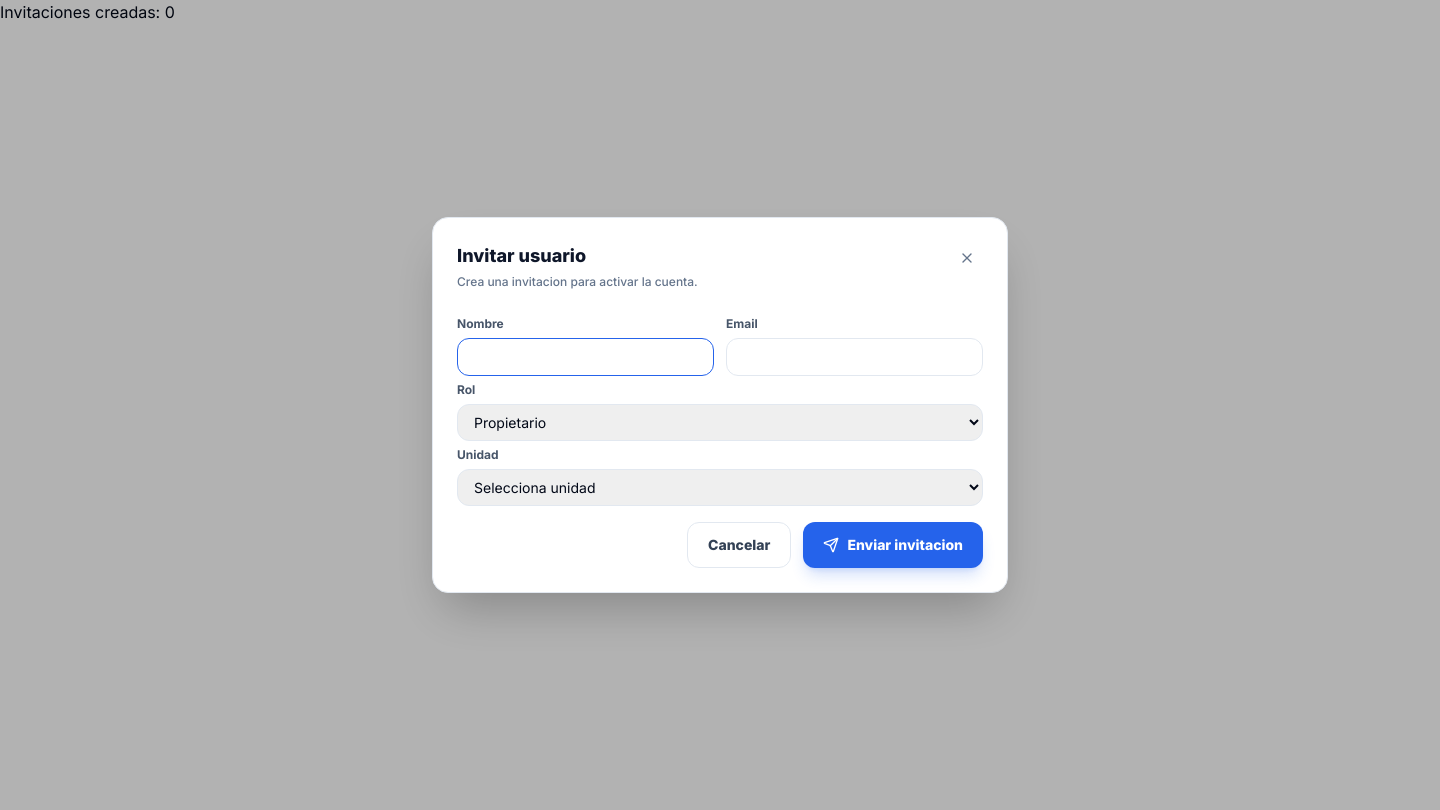
InvitationCreationDialog › keeps the success link visible when parent state updates after invitation creation
The width and height of the screenshot is (1440, 810).
Type "Owner Invitada" into the field labelled "Nombre" at (586, 357), box 457,338 -> 714,376
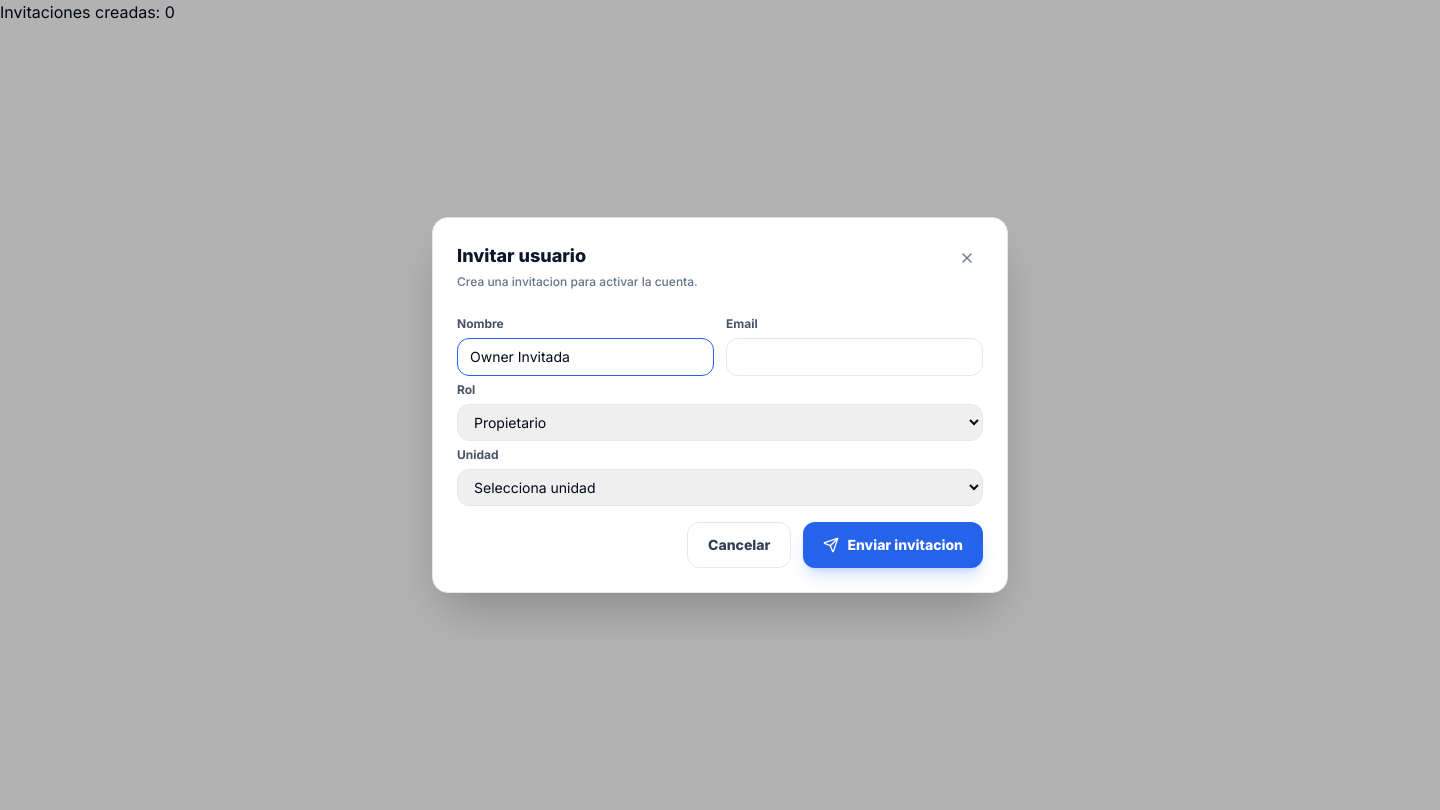
Type "owner@example.com" into the field labelled "Email" at (854, 357), box 726,338 -> 983,376
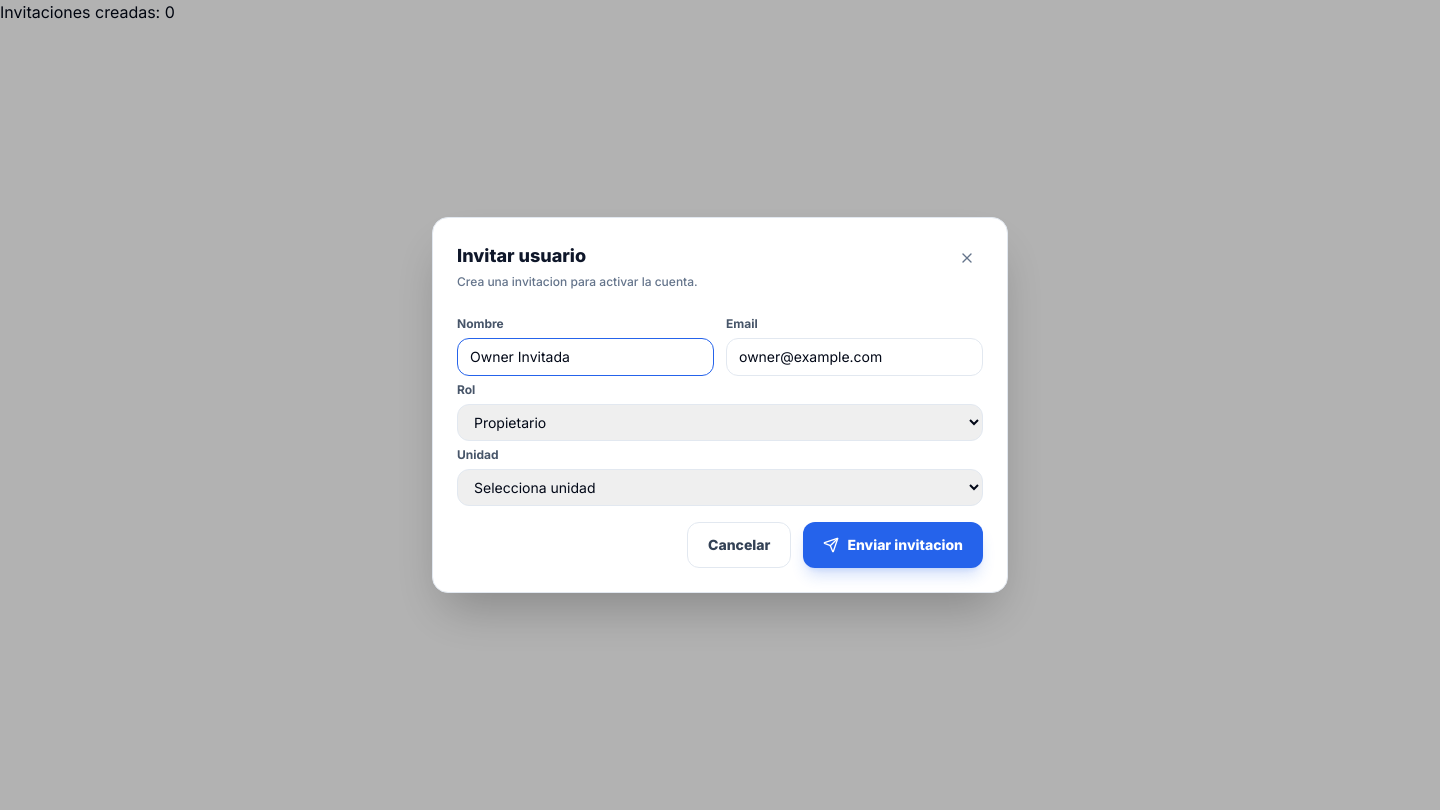
Select "Depto 101 - Torre Norte" in the dropdown labelled "Unidad" at (720, 488), box 457,469 -> 983,506
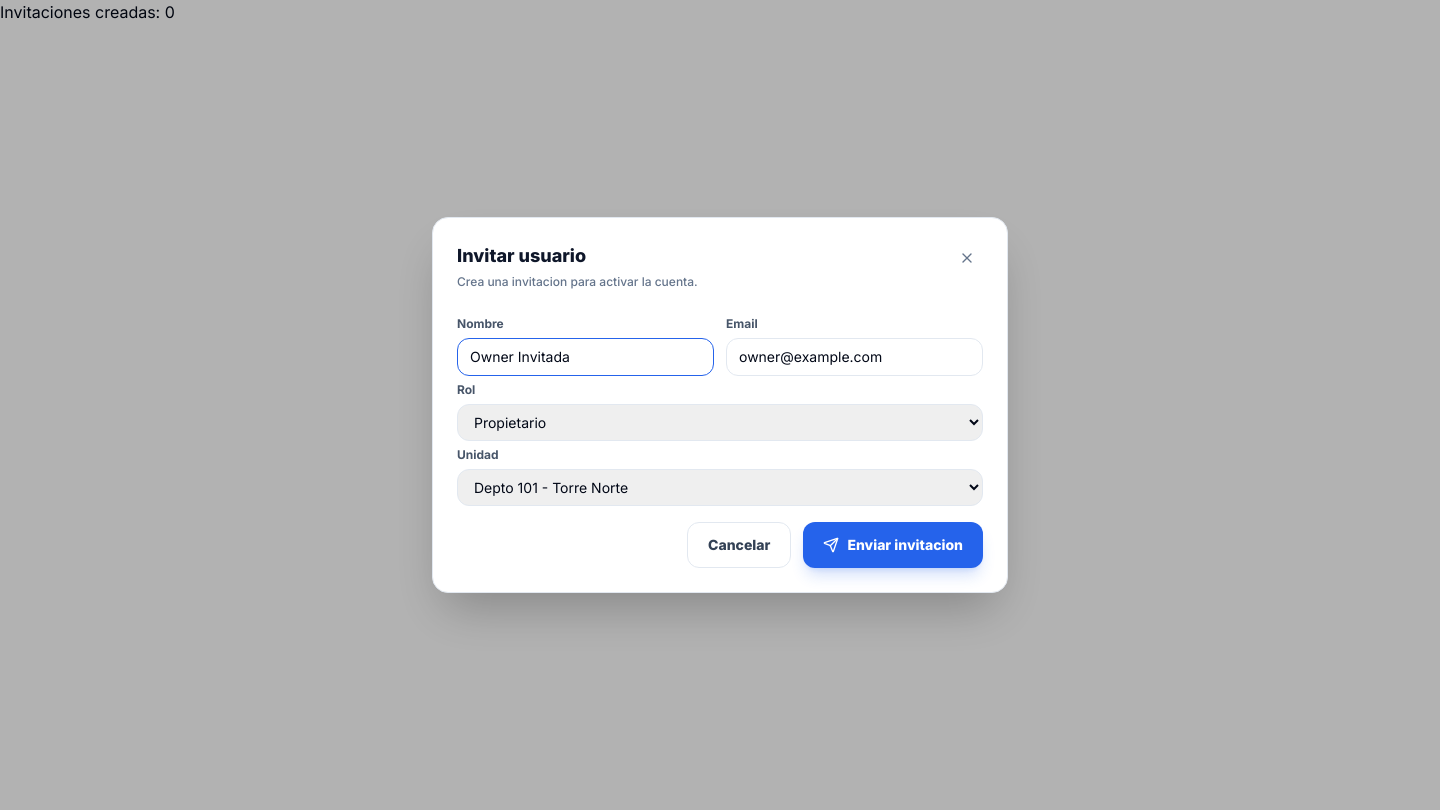
Click the button "Enviar invitacion" at (893, 545), box 803,522 -> 983,568
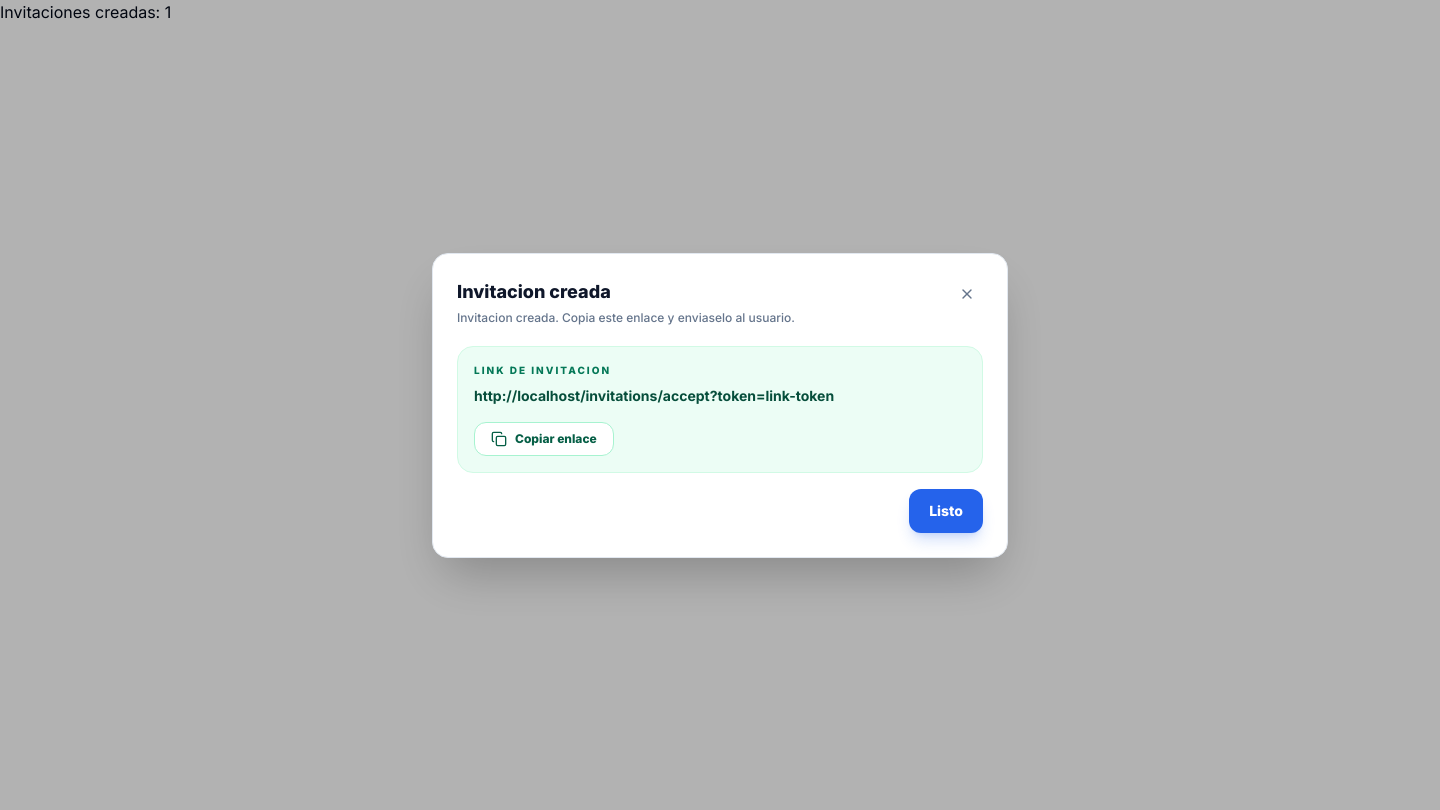
Check: the text "Invitaciones creadas: 1" is shown, box 0,2 -> 171,22
Check: the text "Invitacion creada" is shown, box 457,280 -> 611,302
Check: the text "http://localhost/invitations/accept?token=link-token" is shown, box 474,386 -> 834,404
